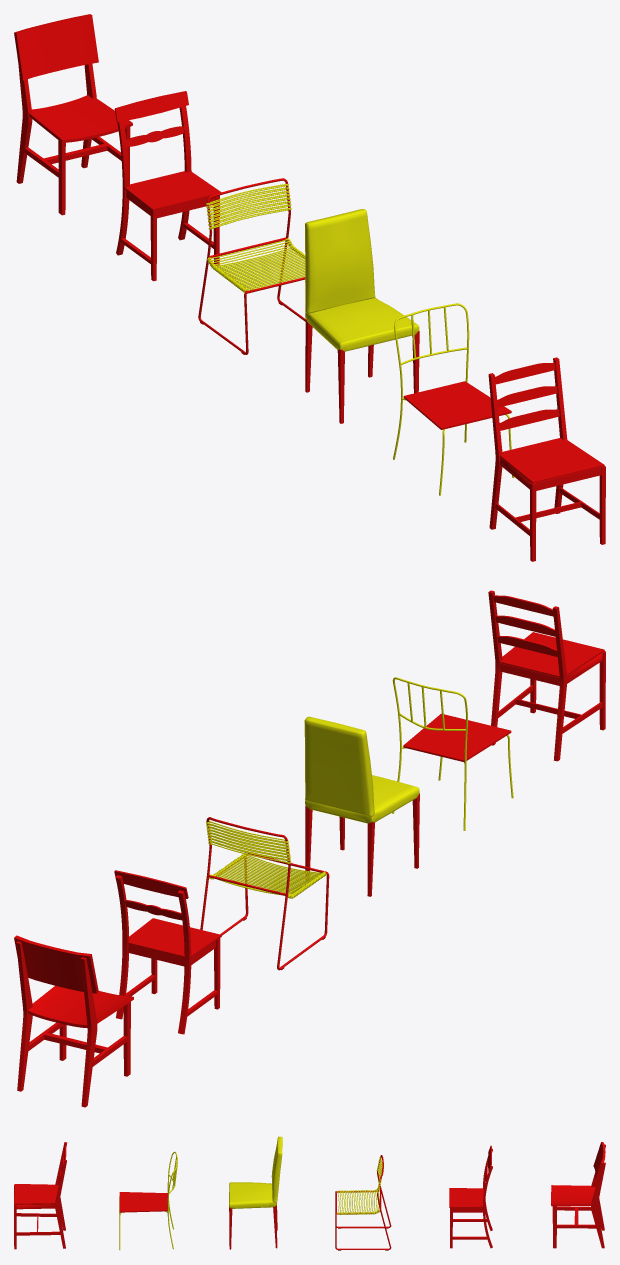
File: RoboTHOR_chairs_grp.fbx
The picture shows the model from 3 angles, top to bottom: view 1: azimuth 30°, elevation 25°; view 2: azimuth 150°, elevation 25°; view 3: azimuth 270°, elevation 25°; orthographic projection. The views are drawn at different scales.
Parts seen in each view (by area): view 1: robothor_chair_extendable, robothor_chair_norden_gateleg, robothor_chair_jokkmokk, robothor_chair_liatorp, robothor_chair_mella, robothor_chair_antnas; view 2: robothor_chair_norden_gateleg, robothor_chair_extendable, robothor_chair_jokkmokk, robothor_chair_liatorp, robothor_chair_mella, robothor_chair_antnas; view 3: robothor_chair_norden_gateleg, robothor_chair_jokkmokk, robothor_chair_extendable, robothor_chair_liatorp, robothor_chair_mella, robothor_chair_antnas.
Part boxes in pixels (x1,y1,x2,y2): robothor_chair_extendable: (305, 209, 419, 423); robothor_chair_norden_gateleg: (14, 14, 132, 215); robothor_chair_jokkmokk: (488, 357, 605, 561); robothor_chair_liatorp: (114, 91, 221, 281); robothor_chair_mella: (198, 178, 305, 354); robothor_chair_antnas: (393, 303, 514, 495); robothor_chair_norden_gateleg: (14, 935, 133, 1107); robothor_chair_extendable: (304, 716, 419, 896); robothor_chair_jokkmokk: (488, 590, 605, 761); robothor_chair_liatorp: (114, 870, 221, 1034); robothor_chair_mella: (200, 817, 329, 970); robothor_chair_antnas: (392, 677, 513, 830); robothor_chair_norden_gateleg: (551, 1142, 605, 1248); robothor_chair_jokkmokk: (14, 1142, 67, 1249); robothor_chair_extendable: (229, 1136, 282, 1249); robothor_chair_liatorp: (449, 1145, 492, 1248); robothor_chair_mella: (335, 1155, 391, 1250); robothor_chair_antnas: (119, 1151, 177, 1250).
Bounding box in the file's own units: 51.94 × 98.12 × 550.
